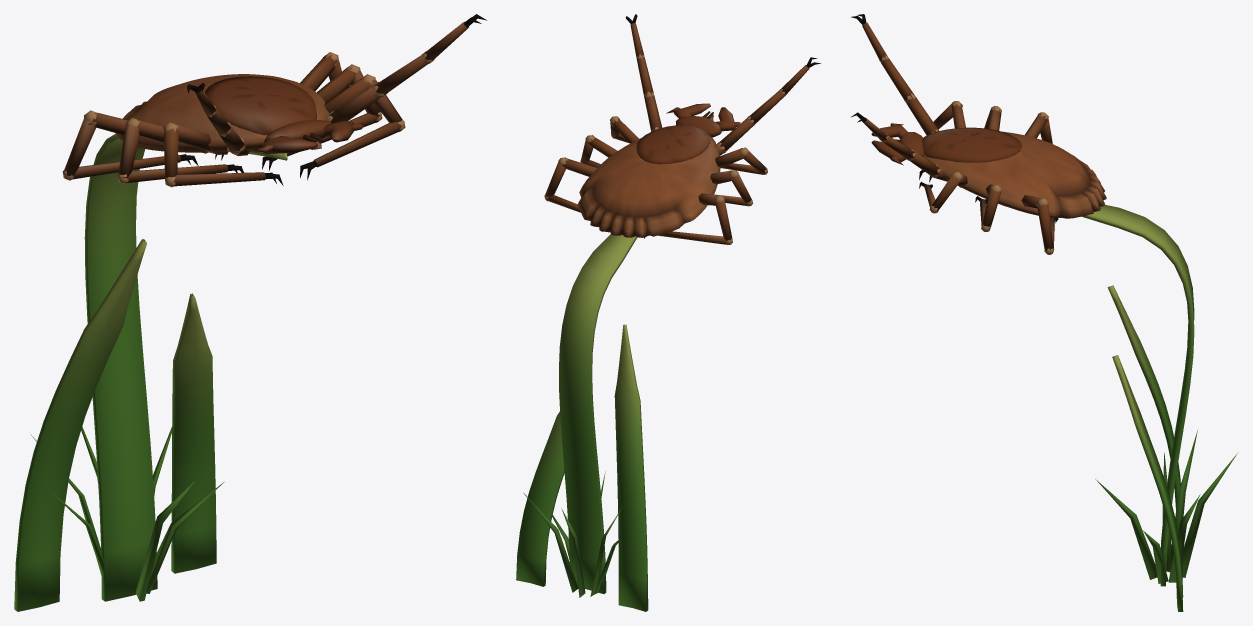
Rendered from LonghornedTick.fbx.
3 renders of one model, left to right at view 1: azimuth 30°, elevation 25°; view 2: azimuth 150°, elevation 25°; view 3: azimuth 270°, elevation 25°, orthographic. The views are drawn at different scales.
Visible parts, largest first — view 1: LonghornedTick; view 2: LonghornedTick; view 3: LonghornedTick.
Boxes of the visible parts, x1,y1,x2,y2 form: LonghornedTick: (14, 14, 486, 611); LonghornedTick: (516, 14, 820, 611); LonghornedTick: (851, 14, 1237, 611).
Size of the model in its own units: 0.5913 by 1.32 by 0.9014.
